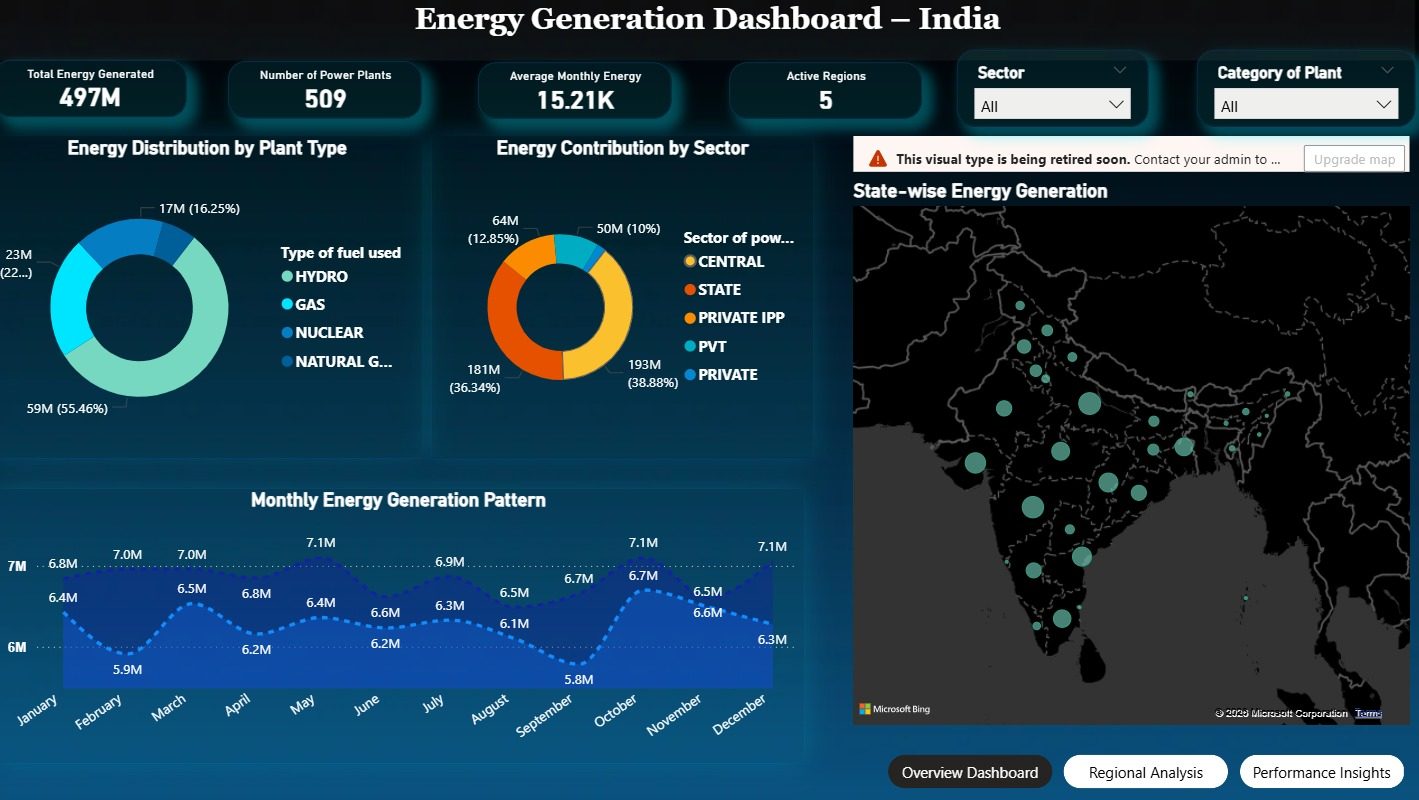

The dashboard page shown, as its layout file describes it:
{"tool":"powerbi","page":{"name":"Overview Dashboard","canvas":[1280,720],"ordinal":0},"visuals":[{"type":"donutChart","title":"Energy Distribution by Plant Type","fields":{"Category":["govdataset.Type of fuel used"],"Y":["Sum(govdataset.Actual energy generated)"]},"box":[0,125.1,383,288.1],"z":0},{"type":"donutChart","title":"Energy Contribution by Sector","fields":{"Category":["govdataset.Sector of power plant"],"Y":["Sum(govdataset.Actual energy generated)"]},"box":[392.4,125.1,341.1,287.1],"z":1000},{"type":"lineChart","title":" Energy generated by Year and Year","fields":{"Category":["govdataset.Month.Variation.Date Hierarchy.Year","govdataset.Month.Variation.Date Hierarchy.Quarter","govdataset.Month.Variation.Date Hierarchy.Month","govdataset.Month.Variation.Date Hierarchy.Day","govdataset.Country"],"Rows":["govdataset.srcStateName"],"Series":["govdataset.Year"],"Y":["Sum(govdataset.Actual energy generated)"]},"box":[788.3,290.3,341.7,245.7],"z":2000},{"type":"areaChart","title":"Monthly Energy Generation Pattern","fields":{"Category":["govdataset.Month.Variation.Date Hierarchy.Month","govdataset.Month.Variation.Date Hierarchy.Day"],"Series":["govdataset.Year"],"Y":["Sum(govdataset.Actual energy generated)"]},"box":[0,440,724.7,245.7],"z":3000},{"type":"card","title":"Total Energy Generated","fields":{"Values":["govdataset.Total Energy"]},"box":[0,56.9,173.1,51.4],"z":4000},{"type":"card","title":"Average Monthly Energy","fields":{"Values":["govdataset.Avg Monthly Energy"]},"box":[433,59.7,173.2,50.3],"z":5000},{"type":"card","title":"Number of Power Plants","fields":{"Values":["govdataset.Total Plants"]},"box":[209.5,58.5,173.2,51.5],"z":6000},{"type":"card","title":"Active Regions","fields":{"Values":["govdataset.Active Regions"]},"box":[657.7,59.7,172,50.3],"z":7000},{"type":"textbox","box":[0,0,1270.4,57.5],"z":8000},{"type":"map","title":"State-wise Energy Generation","fields":{"Category":["govdataset.srcStateName"],"Size":["Sum(govdataset.Actual energy generated)"]},"box":[763.8,125.1,507,531.5],"z":11000},{"type":"slicer","fields":{"Values":["govdataset.Sector of power plant"]},"box":[861.3,48,170.9,69],"z":14000},{"type":"slicer","fields":{"Values":["govdataset.Category of Plant"]},"box":[1075.4,48,195.4,69],"z":15000},{"type":"pageNavigator","box":[799.5,677.8,463.4,30.1],"z":15001}]}

Visuals, with their boxes in screenshot pixels (x1, y1, x2, y2), scaled from the page's 1280x720 canvas onto the 1419x800 screenshot:
"Energy Distribution by Plant Type" donutChart: rect(0, 139, 425, 459)
"Energy Contribution by Sector" donutChart: rect(435, 139, 813, 458)
" Energy generated by Year and Year" lineChart: rect(874, 323, 1253, 596)
"Monthly Energy Generation Pattern" areaChart: rect(0, 489, 803, 762)
"Total Energy Generated" card: rect(0, 63, 192, 120)
"Average Monthly Energy" card: rect(480, 66, 672, 122)
"Number of Power Plants" card: rect(232, 65, 424, 122)
"Active Regions" card: rect(729, 66, 920, 122)
textbox: rect(0, 0, 1408, 64)
"State-wise Energy Generation" map: rect(847, 139, 1409, 730)
slicer - govdataset.Sector of power plant: rect(955, 53, 1144, 130)
slicer - govdataset.Category of Plant: rect(1192, 53, 1409, 130)
pageNavigator: rect(886, 753, 1400, 787)
